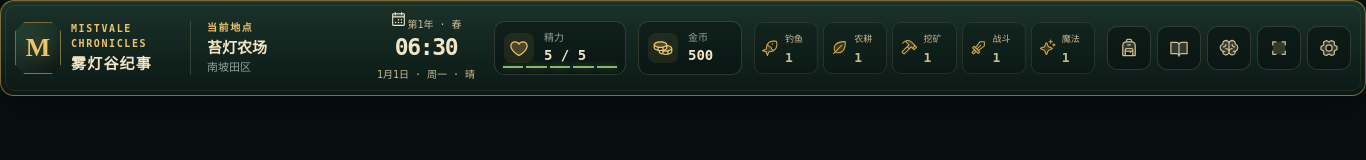
顶部游戏状态栏 › 通过唯一按钮打开背包
Click the button named "打开背包".
click(1129, 48)  # box x1=1107 y1=26 x2=1151 y2=70
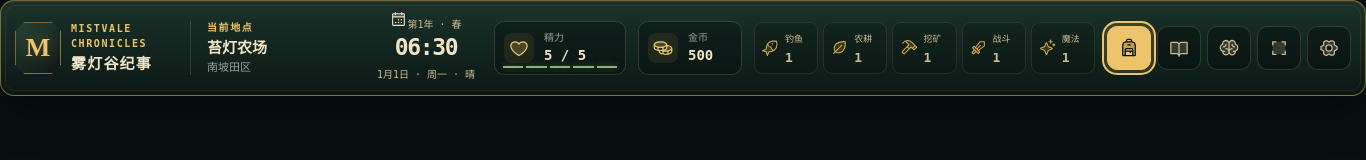
Now the button named "打开背包" is expanded, box x1=1107 y1=26 x2=1151 y2=70
